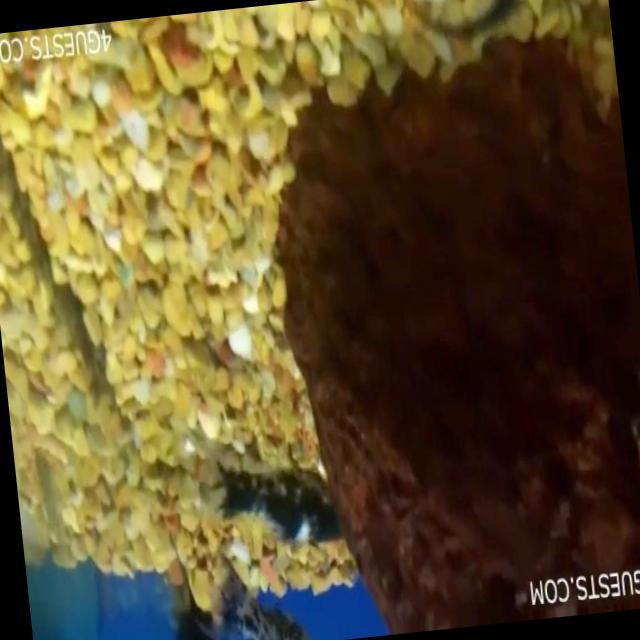PlatyFish: (182, 412, 358, 578)
